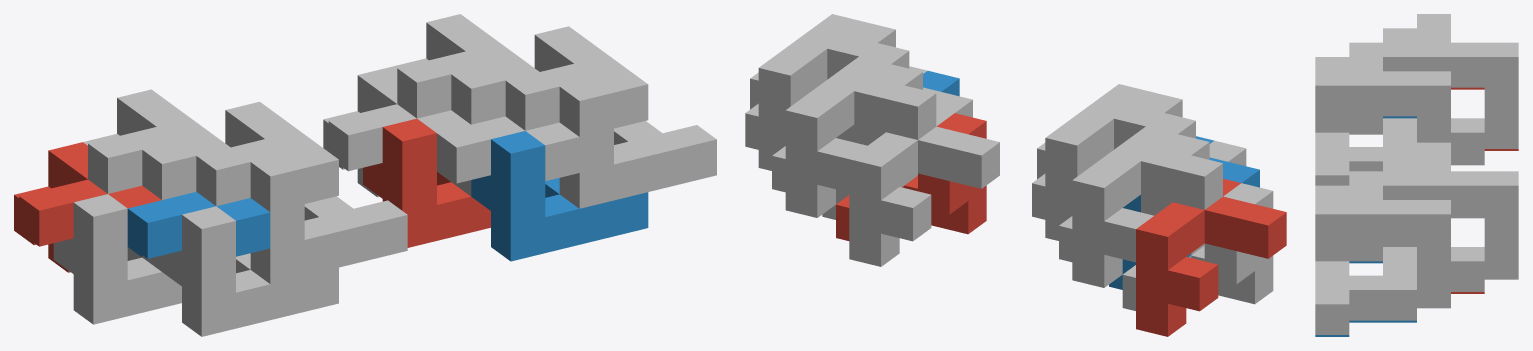
File: tiling.obj
The picture shows the model from 3 angles, left to right: view 1: azimuth 30°, elevation 25°; view 2: azimuth 150°, elevation 25°; view 3: azimuth 270°, elevation 25°; orthographic projection. The views are drawn at different scales.
Visible parts, largest first — view 1: copy_2_domain_4, copy_2_domain_8, copy_2_domain_6, copy_2_domain_2, copy_2_domain_1, copy_2_domain_5, copy_1_domain_8, copy_1_domain_4, copy_1_domain_3, copy_1_domain_7, copy_1_domain_1, copy_1_domain_5 (+4 smaller); view 2: copy_1_domain_7, copy_1_domain_3, copy_1_domain_5, copy_1_domain_1, copy_1_domain_8, copy_1_domain_4, copy_2_domain_1, copy_2_domain_5, copy_2_domain_3, copy_2_domain_7, copy_2_domain_4, copy_2_domain_8 (+4 smaller); view 3: copy_1_domain_8, copy_1_domain_3, copy_1_domain_7, copy_1_domain_4, copy_2_domain_8, copy_2_domain_4, copy_2_domain_3, copy_2_domain_7, copy_2_domain_6, copy_1_domain_5, copy_1_domain_1, copy_1_domain_6.
Part boxes in pixels (box(x1,y1,x2,y2)): copy_2_domain_4: box(250, 153, 407, 284); copy_2_domain_8: box(559, 78, 716, 208); copy_2_domain_6: box(471, 131, 648, 261); copy_2_domain_2: box(162, 206, 338, 336); copy_2_domain_1: box(53, 194, 181, 324); copy_2_domain_5: box(363, 118, 490, 247); copy_1_domain_8: box(505, 26, 648, 130); copy_1_domain_4: box(196, 101, 338, 206); copy_1_domain_3: box(83, 89, 230, 193); copy_1_domain_7: box(392, 14, 539, 118); copy_1_domain_1: box(14, 142, 161, 272); copy_1_domain_5: box(323, 66, 470, 197); copy_1_domain_7: box(785, 56, 936, 217); copy_1_domain_3: box(1072, 126, 1222, 287); copy_1_domain_5: box(849, 108, 999, 266); copy_1_domain_1: box(1136, 178, 1286, 336); copy_1_domain_8: box(758, 14, 909, 170); copy_1_domain_4: box(1045, 84, 1195, 240); copy_2_domain_1: box(1122, 183, 1273, 310); copy_2_domain_5: box(836, 113, 986, 240); copy_2_domain_3: box(1059, 134, 1209, 262); copy_2_domain_7: box(772, 64, 922, 192); copy_2_domain_4: box(1032, 92, 1182, 219); copy_2_domain_8: box(745, 22, 895, 149); copy_1_domain_8: box(1315, 171, 1450, 306); copy_1_domain_3: box(1383, 14, 1518, 148); copy_1_domain_7: box(1383, 142, 1518, 277); copy_1_domain_4: box(1315, 42, 1450, 142); copy_2_domain_8: box(1315, 185, 1416, 334); copy_2_domain_4: box(1315, 57, 1416, 185); copy_2_domain_3: box(1383, 28, 1484, 163); copy_2_domain_7: box(1383, 157, 1484, 291); copy_2_domain_6: box(1315, 261, 1416, 336); copy_1_domain_5: box(1451, 216, 1518, 279); copy_1_domain_1: box(1451, 87, 1518, 150); copy_1_domain_6: box(1383, 245, 1450, 308).
Size of the model in its own units: 18 by 4 by 6.
